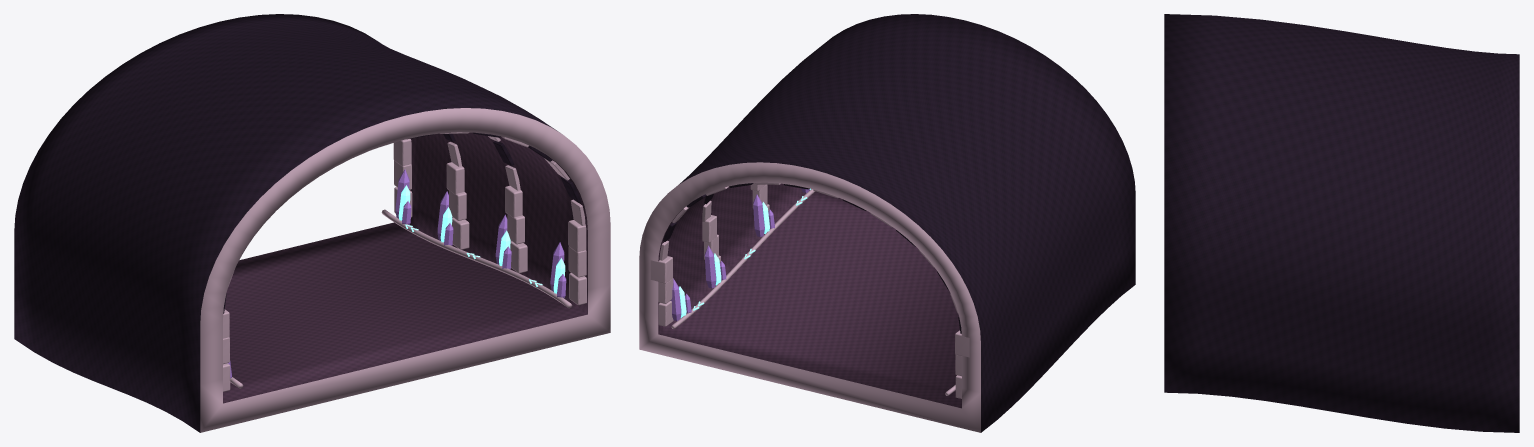
Rendered from grade_down.glb.
The picture shows the model from 3 angles, left to right: view 1: azimuth 30°, elevation 25°; view 2: azimuth 150°, elevation 25°; view 3: azimuth 270°, elevation 25°; orthographic projection. The views are drawn at different scales.
Visible parts, largest first — view 1: TunnelGeometry; view 2: TunnelGeometry; view 3: TunnelGeometry.
Boxes of the visible parts, <box> form: TunnelGeometry: <box>14,14,610,432</box>; TunnelGeometry: <box>639,14,1135,432</box>; TunnelGeometry: <box>1164,14,1519,432</box>.
Size of the model in its own units: 15.3 by 11.02 by 12.
Materials: 5 (2 with a texture image).
